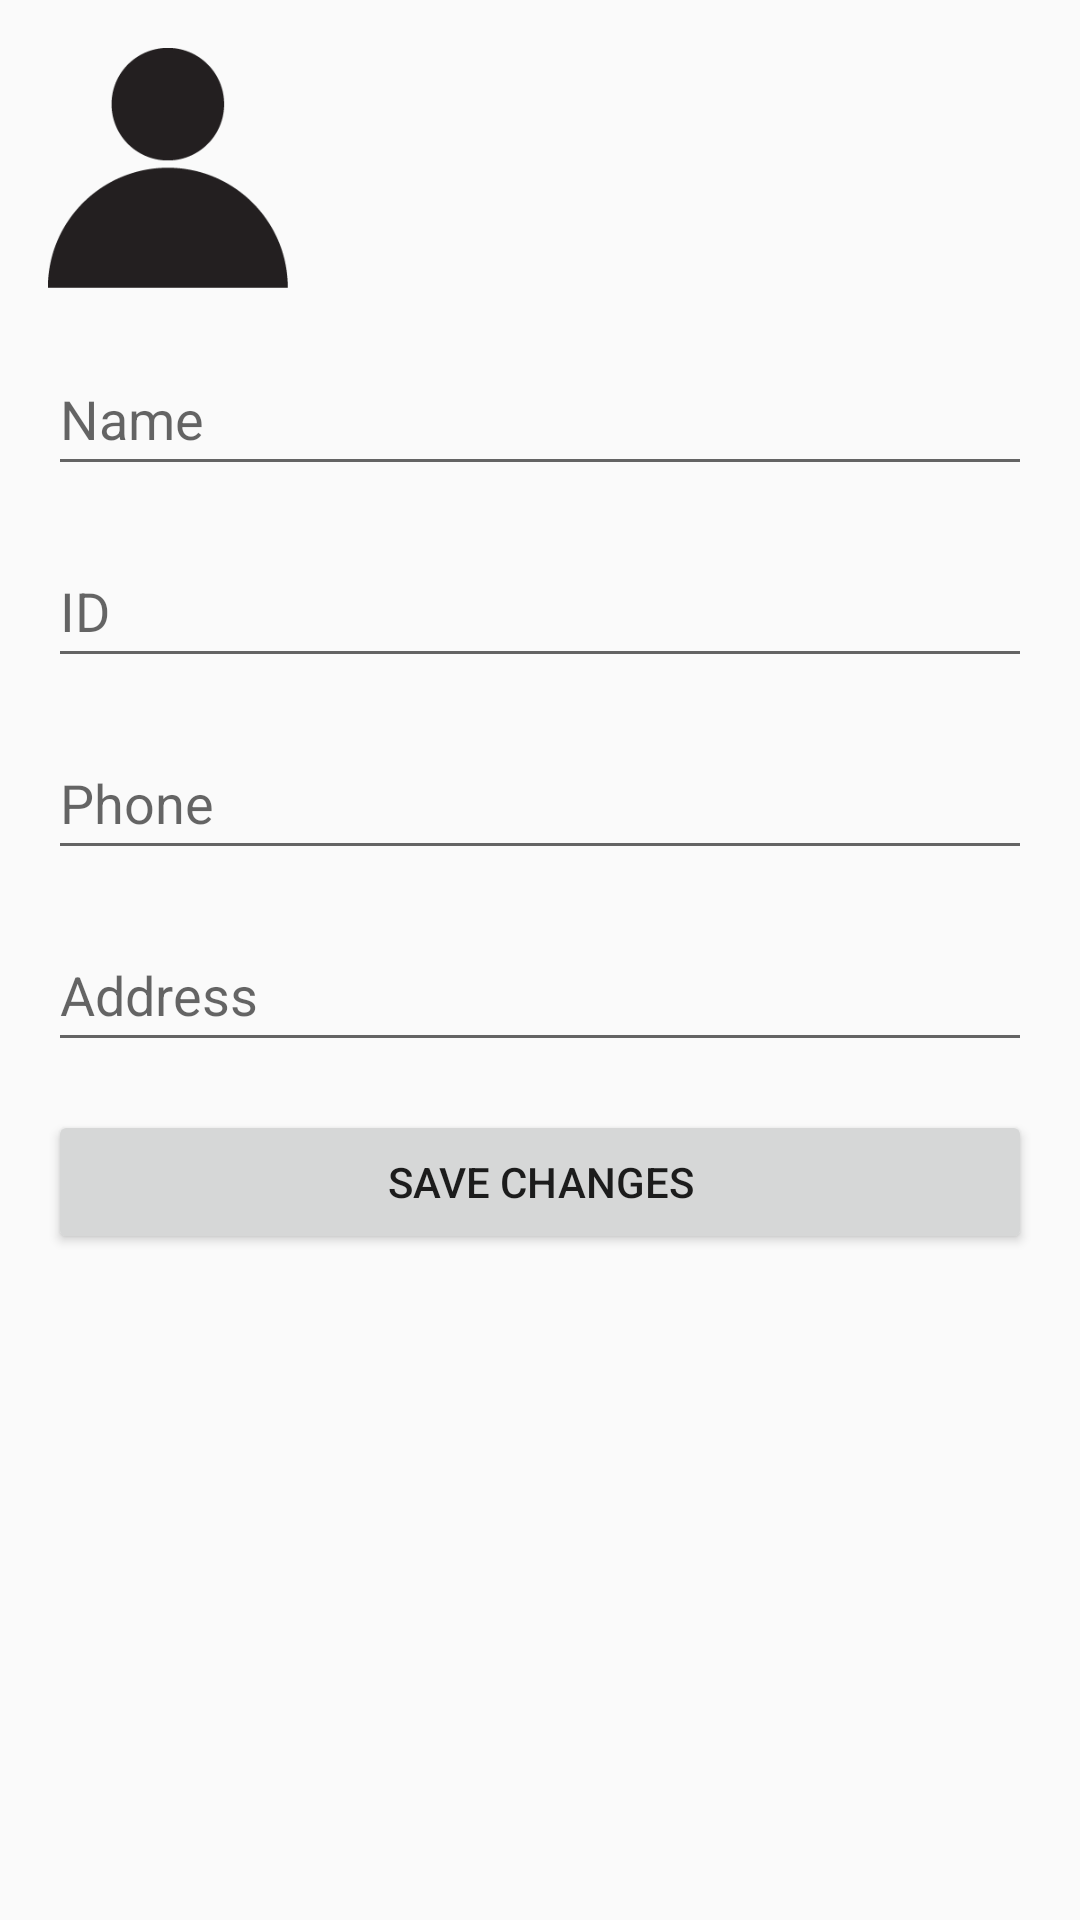

Locate icon controls on the screen. Image size 1080px x 1920px, boxes as (x1, y1, x2, y2).
student pic: (48, 48, 288, 288)
